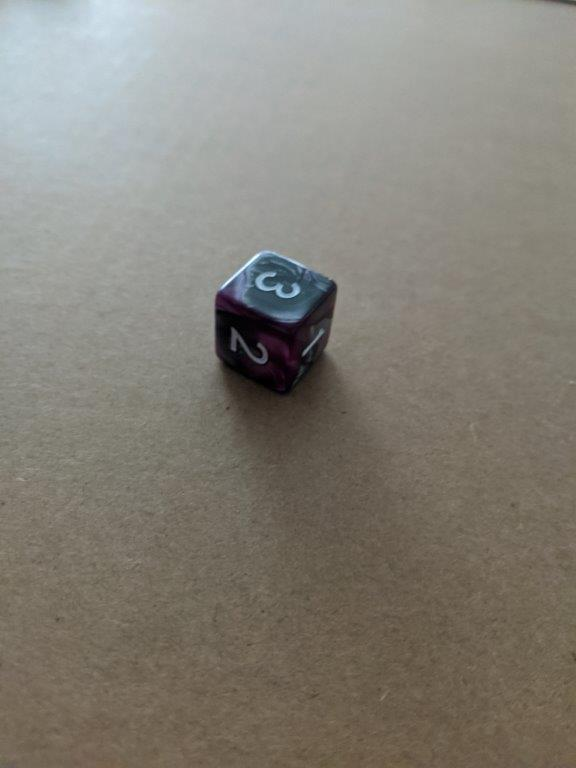d6-3: (214, 249, 337, 395)
